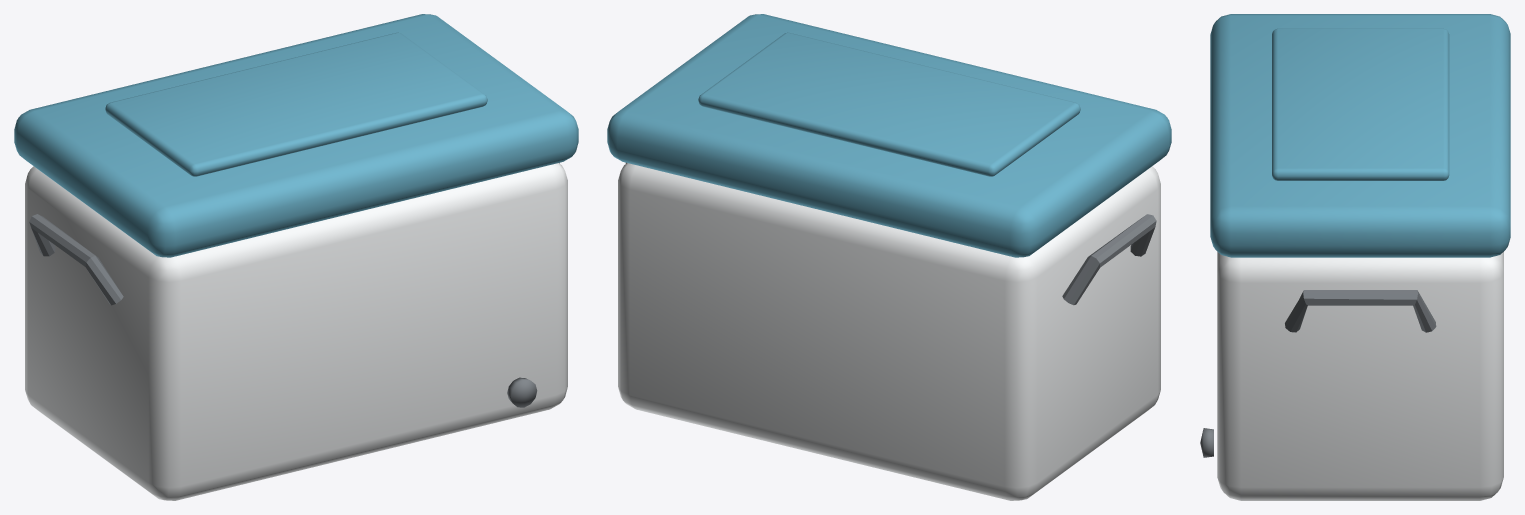
The model's file is cooler_box.glb.
3 views of the same model, side by side, from view 1: azimuth 30°, elevation 25°; view 2: azimuth 150°, elevation 25°; view 3: azimuth 270°, elevation 25° (orthographic).
Parts seen in each view (by area): view 1: cooler_box; view 2: cooler_box; view 3: cooler_box.
Boxes of the visible parts, box(x1,y1,x2,y2) form: cooler_box: box(14, 14, 578, 500); cooler_box: box(607, 14, 1171, 500); cooler_box: box(1200, 14, 1510, 500).
Size of the model in its own units: 0.8031 by 0.5 by 0.455.
